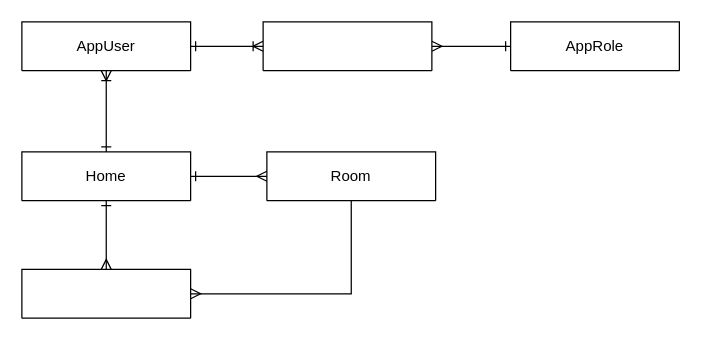
This 701x340 diagram has some shape labels left out. The shapes that lost their labels are listed below. From the top down, each one's centre as x and y in pixels, then its label:
At pixel 347 46: "AppUserRole".
At pixel 106 293: "HouseholdDuty".
